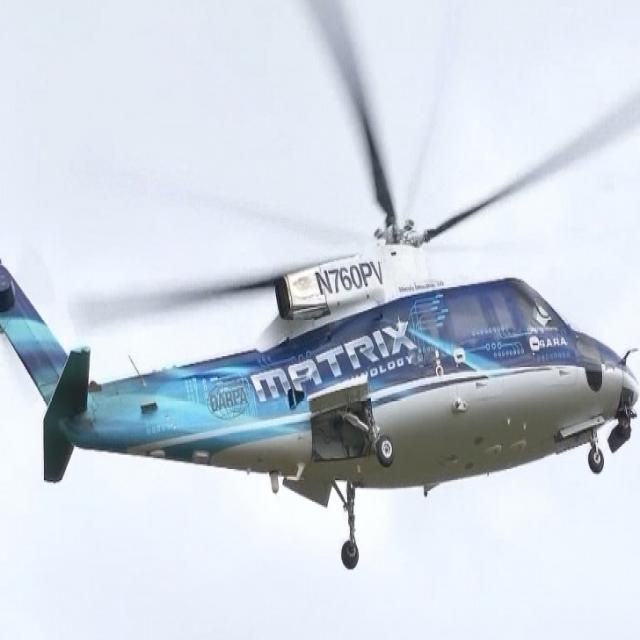helicopter: (4, 1, 640, 580)
